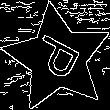P_SE: (27, 30, 88, 86)
